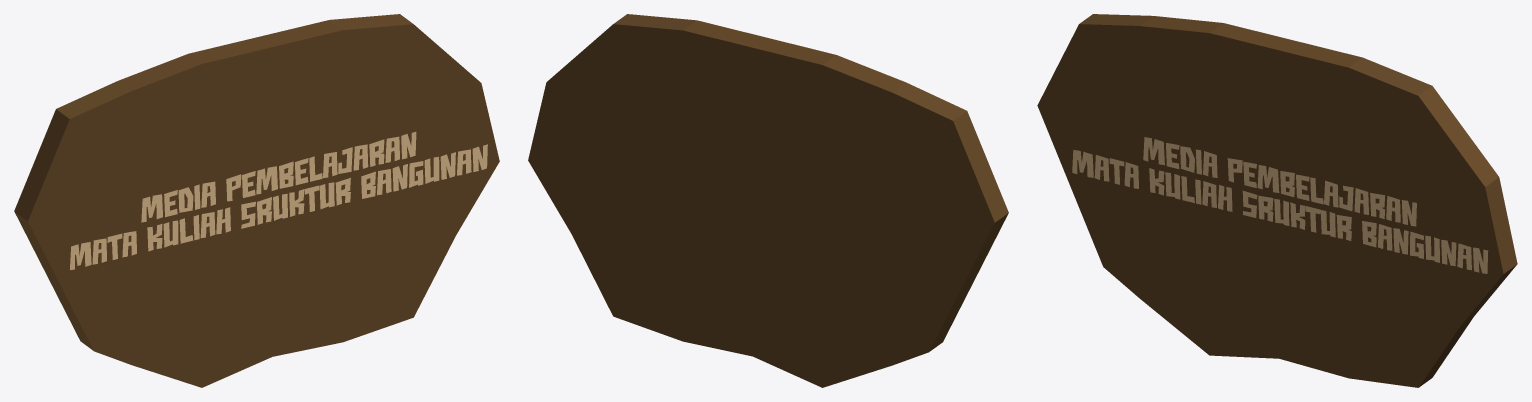
Rendered from ui_1_ShakingTable.fbx.
3 renders of one model, left to right at view 1: azimuth 30°, elevation 25°; view 2: azimuth 150°, elevation 25°; view 3: azimuth 330°, elevation 25°, orthographic.
Visible parts, largest first — view 1: Cube.003, Text.002; view 2: Cube.003; view 3: Cube.003, Text.002.
Boxes of the visible parts, x1,y1,x2,y2 form: Cube.003: (14,14,499,387); Text.002: (70,131,487,270); Cube.003: (528,14,1008,387); Cube.003: (1037,14,1517,387); Text.002: (1072,137,1488,273).
Size of the model in its own units: 256 by 168 by 16.5.
